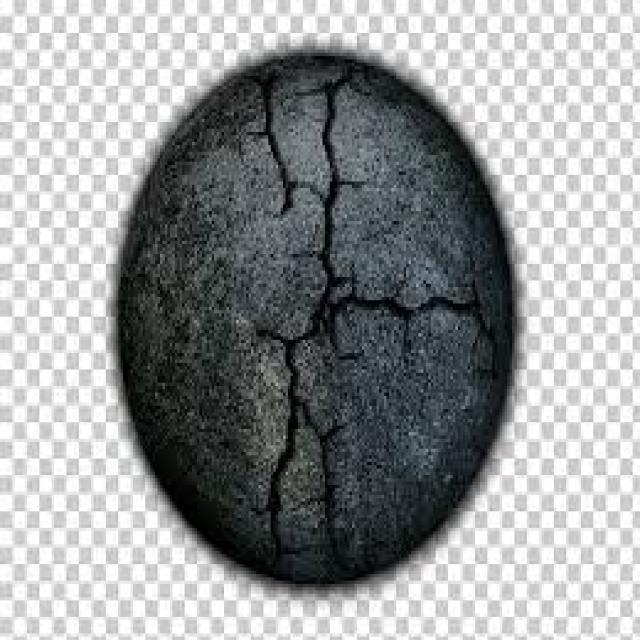Metamorphic: (103, 43, 522, 594)
